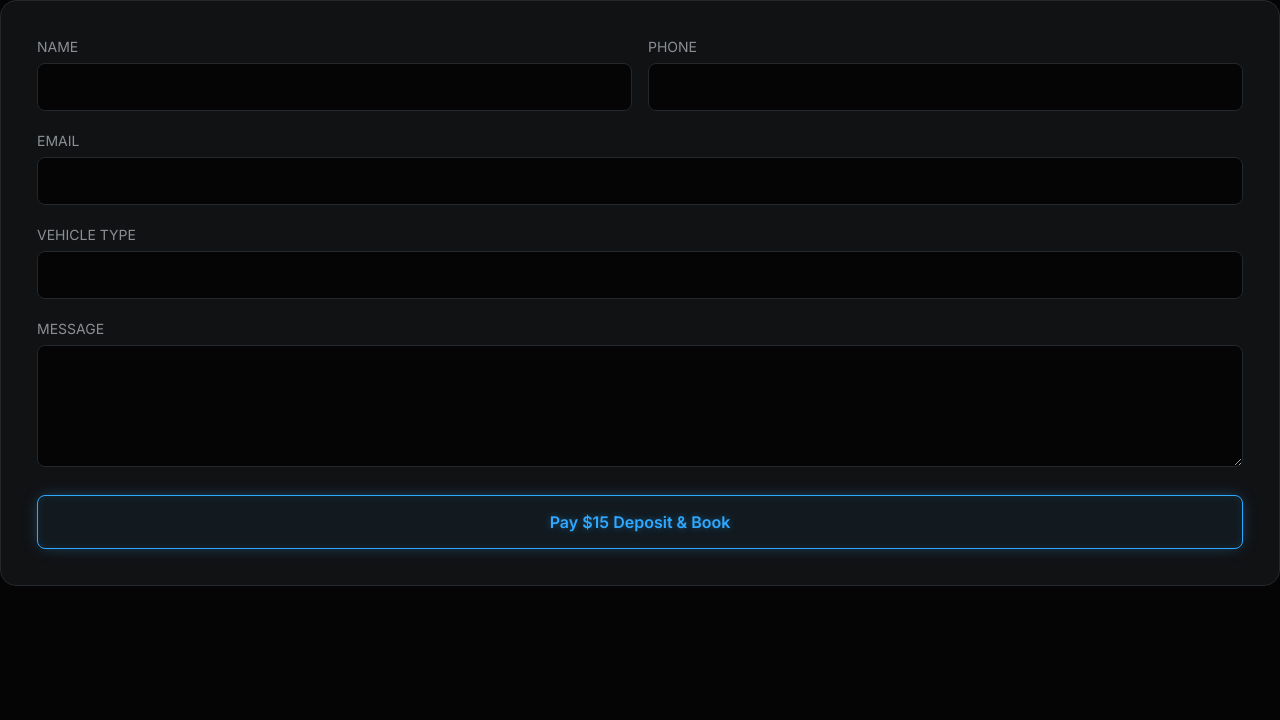
Scenario: ContactForm › booking confirmation (prefillMessage set) › falls back to the normal success message if the checkout link can't be created
Step 1. Type "Jordan Smith" into the field labelled "NAME" → (334,87), box [37,63,632,111]
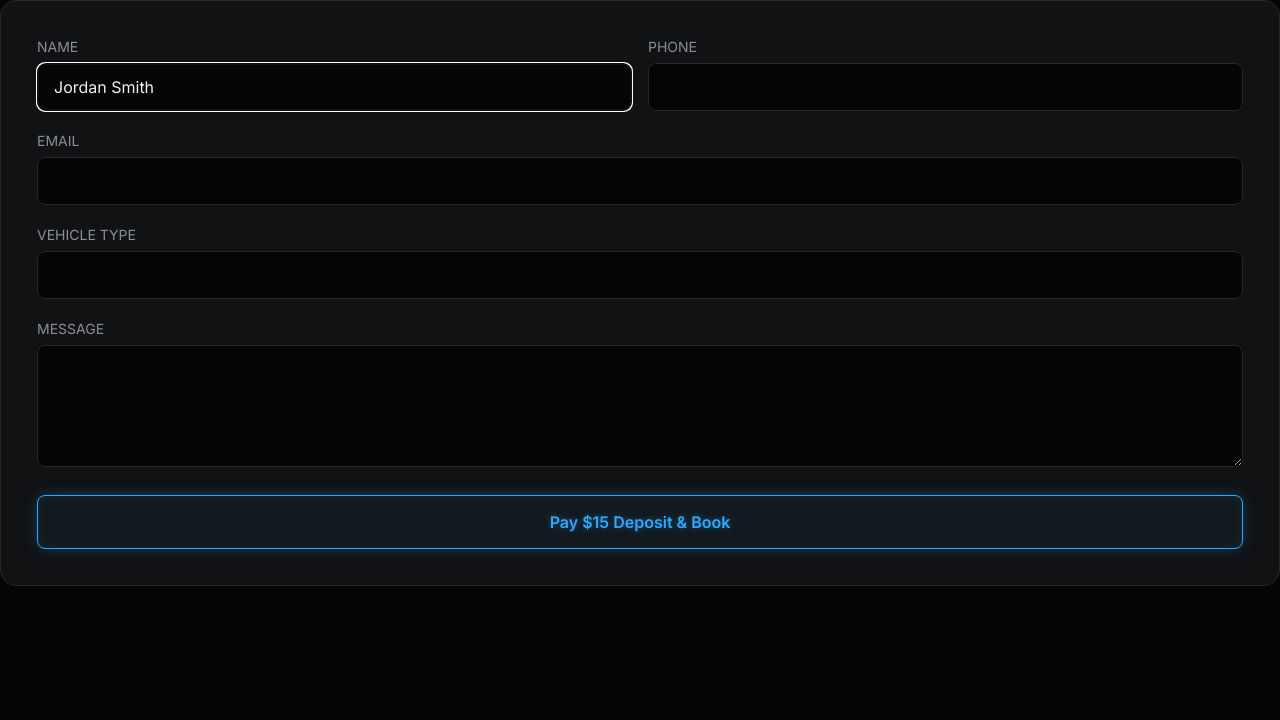
Step 2. Type "5551234567" into the field labelled "PHONE" → (946,87), box [648,63,1243,111]
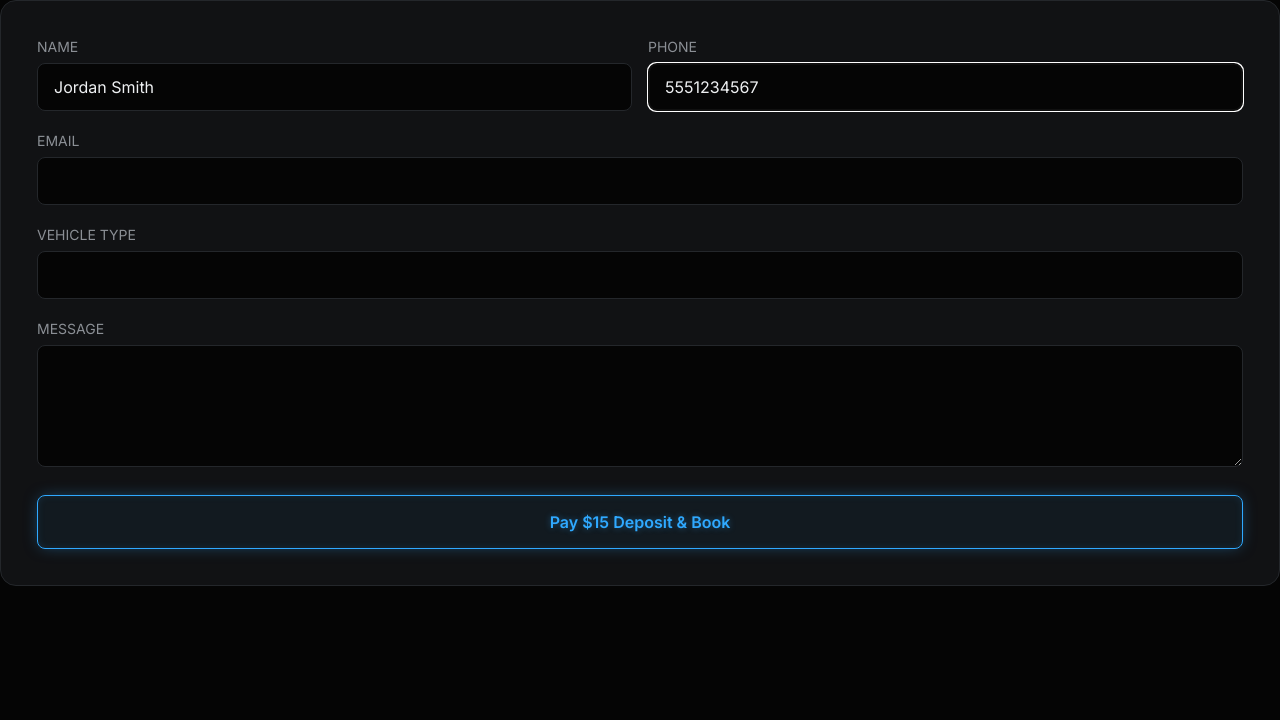
Step 3. Type "jordan@example.com" into the field labelled "EMAIL" → (640,181), box [37,157,1243,205]
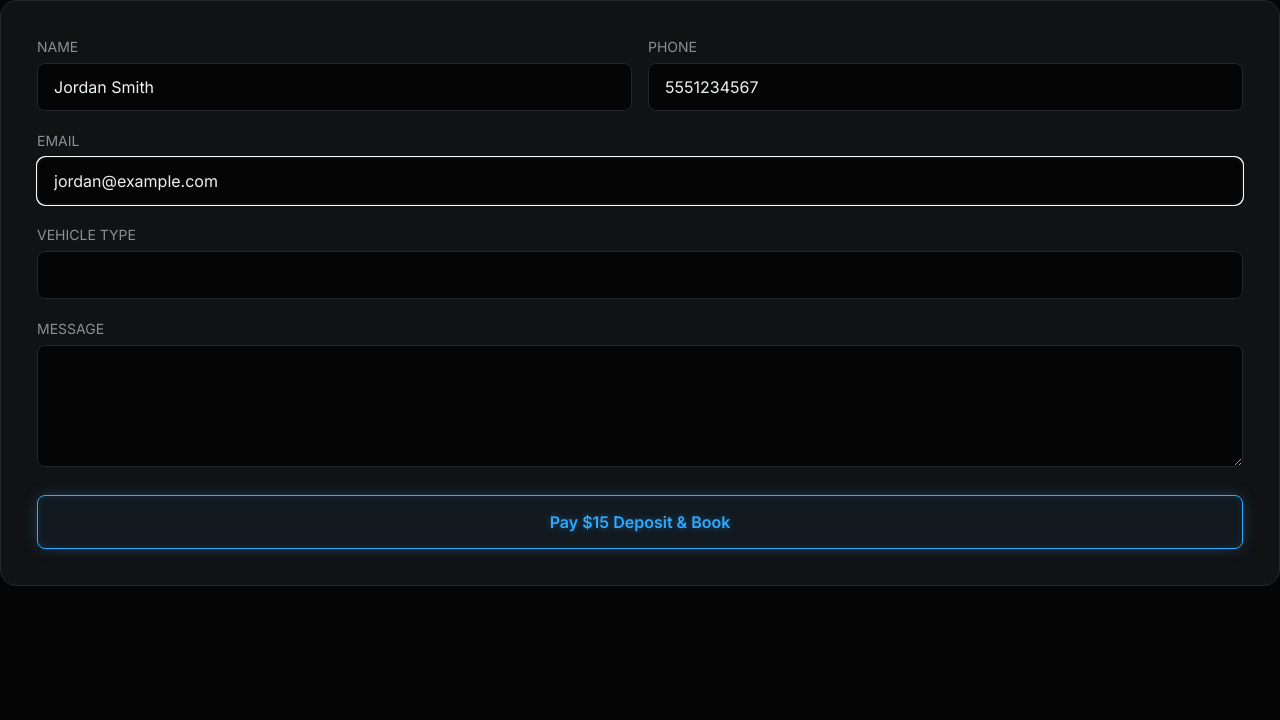
Step 4. Click the button "Pay $15 Deposit & Book" → (640,522), box [37,495,1243,549]
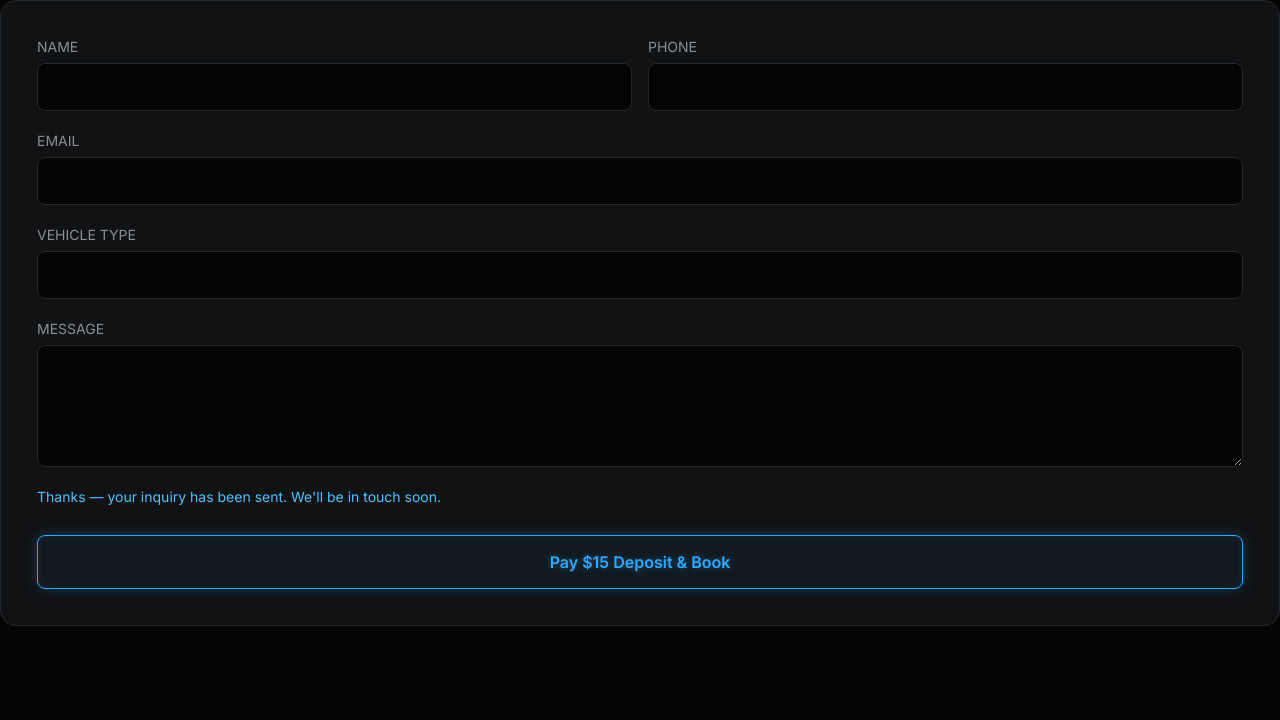
Check: the message shows "inquiry has been sent", box [37,488,441,505]
